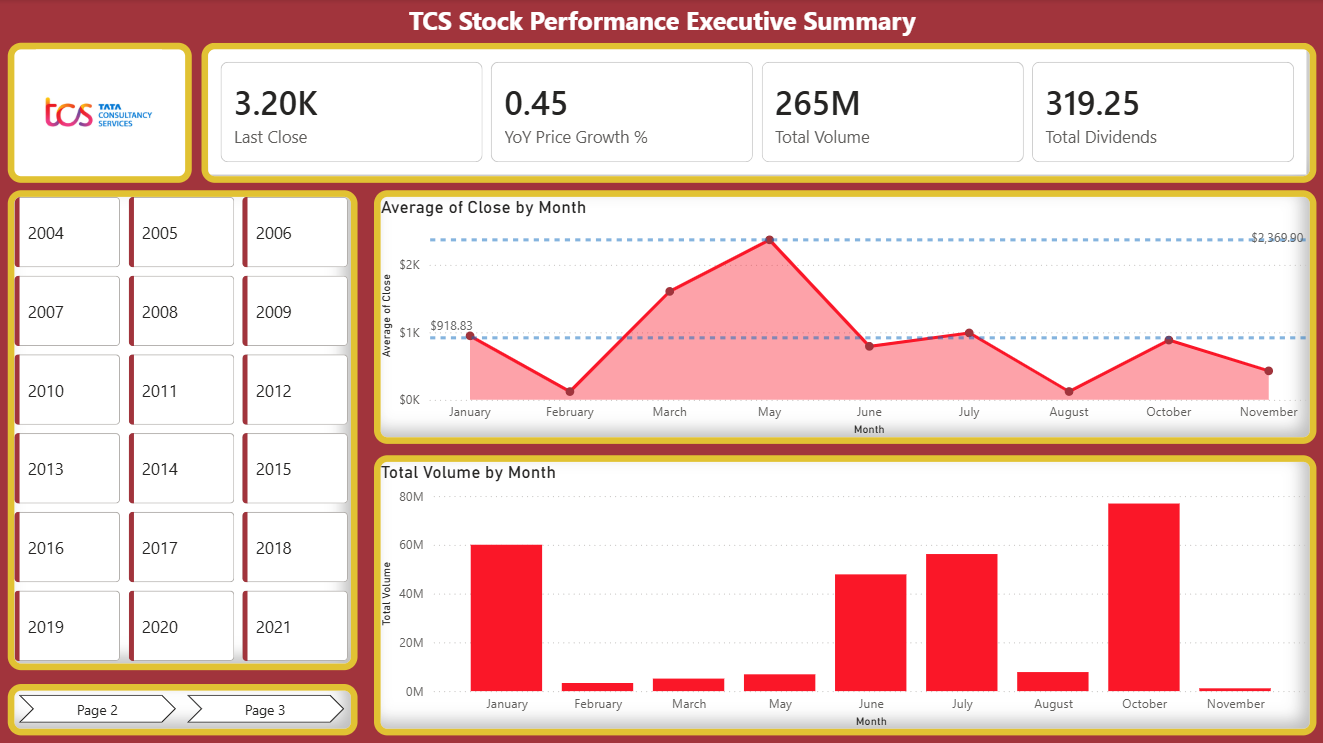

This screenshot's page, from the dashboard's own definition file:
{"tool":"powerbi","page":{"name":"Page 1","canvas":[1280,720],"ordinal":0},"visuals":[{"type":"areaChart","fields":{"Category":["Calender.Date.Variation.Date Hierarchy.Month","Calender.Date.Variation.Date Hierarchy.Day"],"Y":["Avg(TCS_stock_history.Close)"]},"box":[361.9,184.6,909.7,244.9],"z":0},{"type":"cardVisual","fields":{"Data":["TCS_stock_history.Last Close","TCS_stock_history.YoY Price Growth %","TCS_stock_history.Total Volume","TCS_stock_history.Total Dividends"]},"box":[195.4,42.2,1076.1,135.1],"z":1000},{"type":"advancedSlicerVisual","fields":{"Values":["Calender.Date.Variation.Date Hierarchy.Year"]},"box":[8.4,184.6,337.8,463.3],"z":2000},{"type":"clusteredColumnChart","fields":{"Category":["Calender.Date.Variation.Date Hierarchy.Month"],"Y":["TCS_stock_history.Total Volume"]},"box":[361.9,440.4,909.7,270.2],"z":3000},{"type":"pageNavigator","box":[8.4,661.1,337.8,49.5],"z":6000},{"type":"textbox","box":[0,0,1280,42.2],"z":7000},{"type":"image","box":[8.4,42.2,177.3,135.1],"z":8000}]}

Visuals, with their boxes in screenshot pixels (x1, y1, x2, y2), scaled from the page's 1280x720 canvas onto the 1323x743 screenshot:
areaChart - Calender.Date.Variation.Date Hierarchy.Month x Calender.Date.Variation.Date Hierarchy.Day: 374 190 1314 443
cardVisual - TCS_stock_history.Last Close x TCS_stock_history.YoY Price Growth %: 202 44 1314 183
advancedSlicerVisual - Calender.Date.Variation.Date Hierarchy.Year: 9 190 358 669
clusteredColumnChart - Calender.Date.Variation.Date Hierarchy.Month x TCS_stock_history.Total Volume: 374 454 1314 733
pageNavigator: 9 682 358 733
textbox: 0 0 1322 44
image: 9 44 192 183
